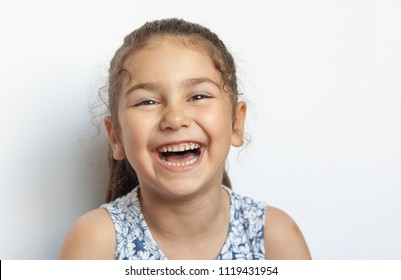person: (102, 18, 248, 202)
